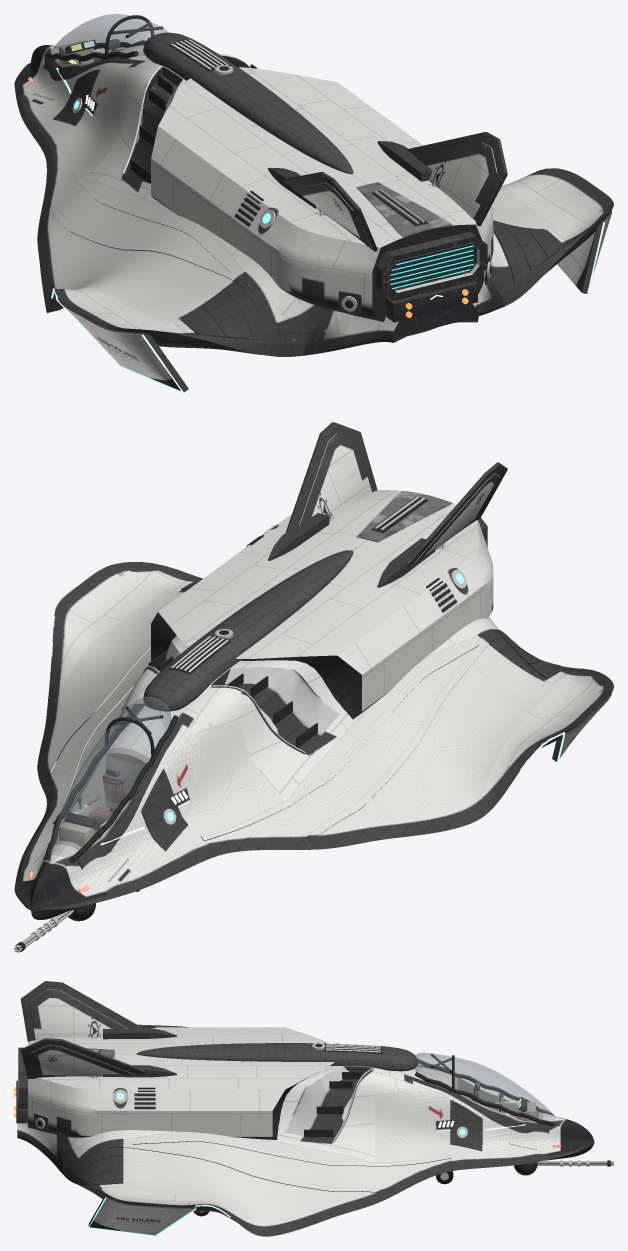
The model's file is Chasseur.glb.
The picture shows the model from 3 angles, top to bottom: view 1: azimuth 30°, elevation 25°; view 2: azimuth 150°, elevation 25°; view 3: azimuth 270°, elevation 25°; orthographic projection. The views are drawn at different scales.
Parts seen in each view (by area): view 1: Chasseur, Verriere; view 2: Chasseur, Verriere; view 3: Chasseur, Verriere.
Boxes of the visible parts, x1,y1,x2,y2 form: Chasseur: (14, 15, 613, 393); Verriere: (51, 14, 168, 59); Chasseur: (14, 422, 613, 952); Verriere: (51, 697, 170, 857); Chasseur: (14, 981, 613, 1236); Verriere: (414, 1052, 555, 1121).
Size of the model in its own units: 14.69 by 6.61 by 20.73.
Materials: 19 (18 with a texture image).
